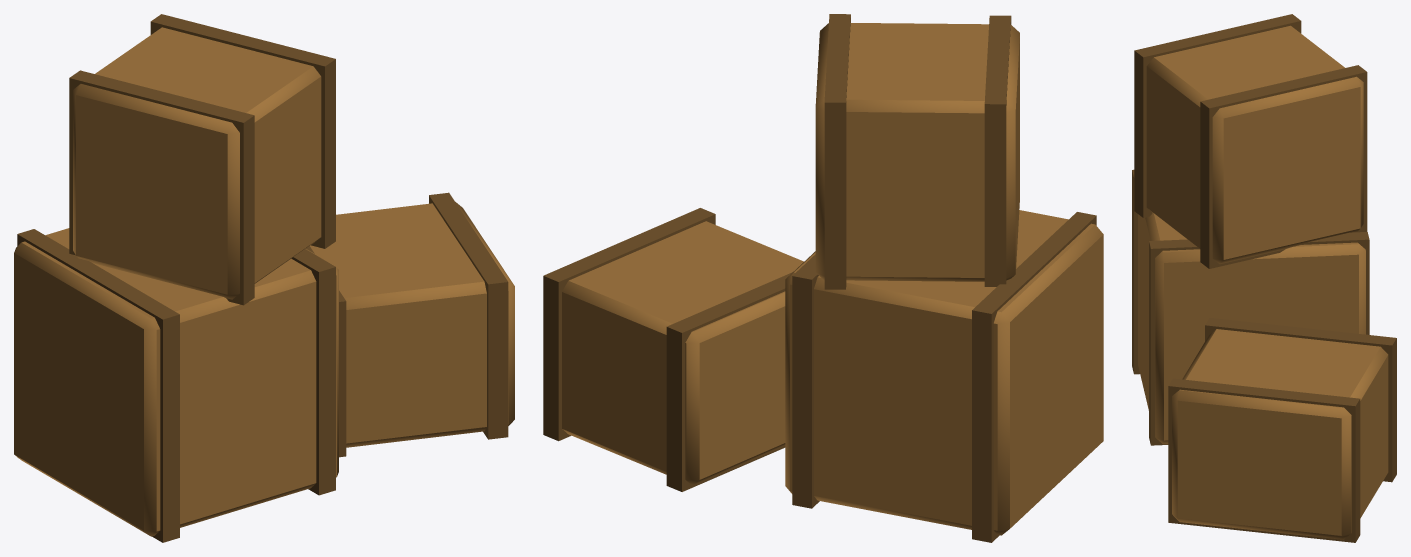
File: crates.glb
3 renders of one model, left to right at view 1: azimuth 30°, elevation 25°; view 2: azimuth 150°, elevation 25°; view 3: azimuth 270°, elevation 25°, orthographic. The views are drawn at different scales.
Visible parts, largest first — view 1: crates; view 2: crates; view 3: crates.
Boxes of the visible parts, x1,y1,x2,y2 form: crates: (14, 14, 514, 542); crates: (543, 14, 1103, 542); crates: (1132, 14, 1396, 542).
Size of the model in its own units: 1.73 by 1.47 by 1.
